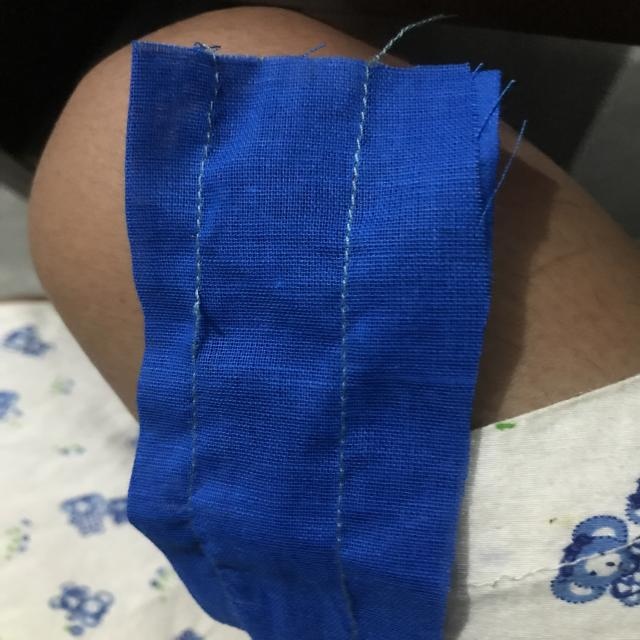good: (331, 230, 364, 314)
skip: (178, 281, 220, 362)
